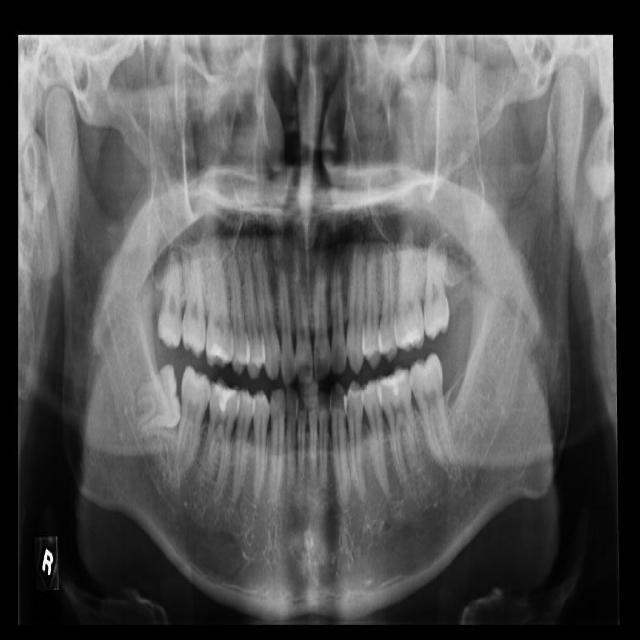3M ESPE Implant: (157, 249, 183, 351)
52: (368, 362, 424, 418), (393, 299, 425, 354), (208, 377, 242, 426), (204, 319, 236, 370)
73: (612, 590, 624, 600)
BioHorizons Implant: (421, 237, 451, 341)
Blue Sky Bio Implant: (406, 351, 455, 466)
Caries: (177, 237, 208, 359)
Implant: (174, 365, 213, 472)
Keystone Dental Implant: (127, 363, 185, 435)
